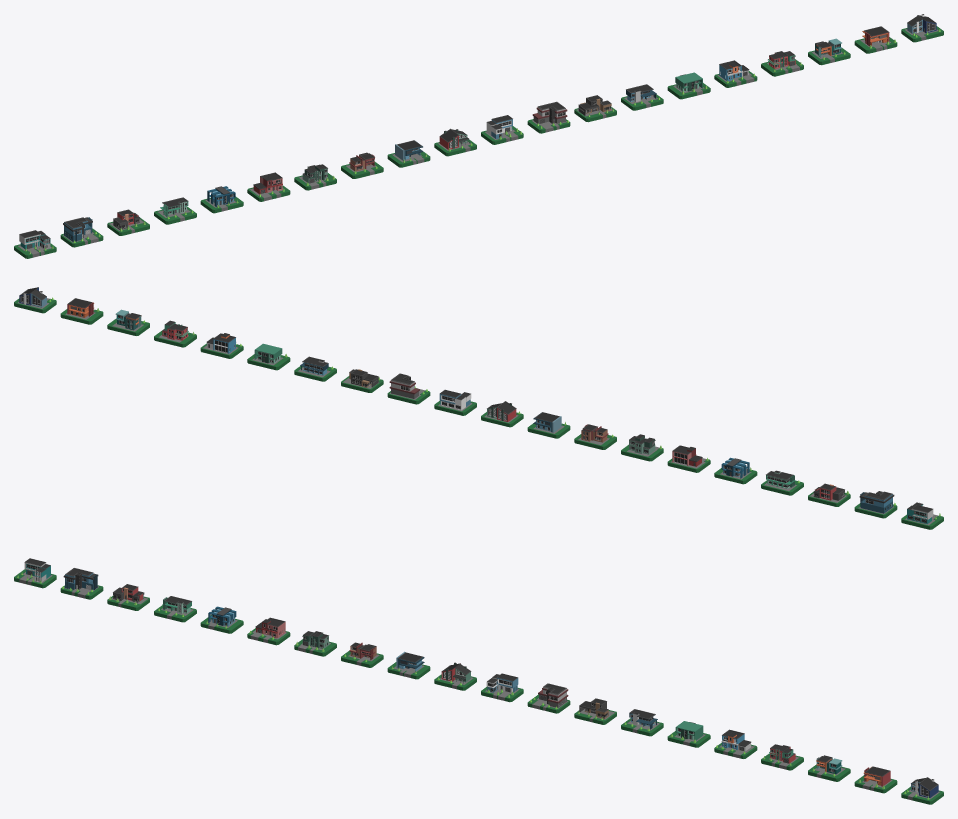
File: houses.glb
The picture shows the model from 3 angles, top to bottom: view 1: azimuth 30°, elevation 25°; view 2: azimuth 150°, elevation 25°; view 3: azimuth 330°, elevation 25°; orthographic projection.
Parts seen in each view (by area): view 1: modern_house_08, modern_house_18, modern_house_17, modern_house_07, modern_house_02, modern_house_06, modern_house_12, modern_house_01, modern_house_16, modern_house_15, modern_house_05, modern_house_20 (+8 smaller); view 2: modern_house_18, modern_house_08, modern_house_07, modern_house_02, modern_house_01, modern_house_11, modern_house_05, modern_house_03, modern_house_15, modern_house_17, modern_house_06, modern_house_12 (+8 smaller); view 3: modern_house_18, modern_house_08, modern_house_07, modern_house_17, modern_house_12, modern_house_02, modern_house_01, modern_house_16, modern_house_05, modern_house_06, modern_house_15, modern_house_20 (+8 smaller).
Boxes of the visible parts, x1,y1,x2,y2 form: modern_house_08: (527, 101, 570, 133); modern_house_18: (60, 217, 103, 247); modern_house_17: (14, 230, 56, 258); modern_house_07: (481, 115, 523, 144); modern_house_02: (247, 172, 290, 201); modern_house_06: (434, 128, 476, 156); modern_house_12: (714, 60, 757, 87); modern_house_01: (200, 186, 243, 213); modern_house_16: (901, 14, 943, 42); modern_house_15: (854, 26, 897, 53); modern_house_05: (387, 140, 430, 167); modern_house_20: (154, 197, 196, 224); modern_house_18: (854, 491, 897, 518); modern_house_08: (387, 373, 430, 404); modern_house_07: (434, 389, 476, 415); modern_house_02: (667, 445, 710, 472); modern_house_01: (714, 457, 757, 484); modern_house_11: (247, 343, 290, 370); modern_house_05: (527, 412, 570, 438); modern_house_03: (621, 434, 663, 461); modern_house_15: (60, 298, 103, 324); modern_house_17: (901, 502, 943, 529); modern_house_06: (481, 401, 523, 427); modern_house_12: (200, 333, 243, 358); modern_house_18: (60, 568, 103, 599); modern_house_08: (527, 683, 570, 713); modern_house_07: (481, 673, 523, 702); modern_house_17: (14, 558, 56, 588); modern_house_12: (714, 729, 757, 758); modern_house_02: (247, 617, 290, 645); modern_house_01: (200, 606, 243, 633); modern_house_16: (901, 777, 943, 804); modern_house_05: (387, 651, 430, 679); modern_house_06: (434, 662, 476, 690); modern_house_15: (854, 766, 897, 793); modern_house_20: (154, 596, 196, 622).
Size of the model in its own units: 591 by 10.75 by 15.
Materials: 2 (2 with a texture image).
